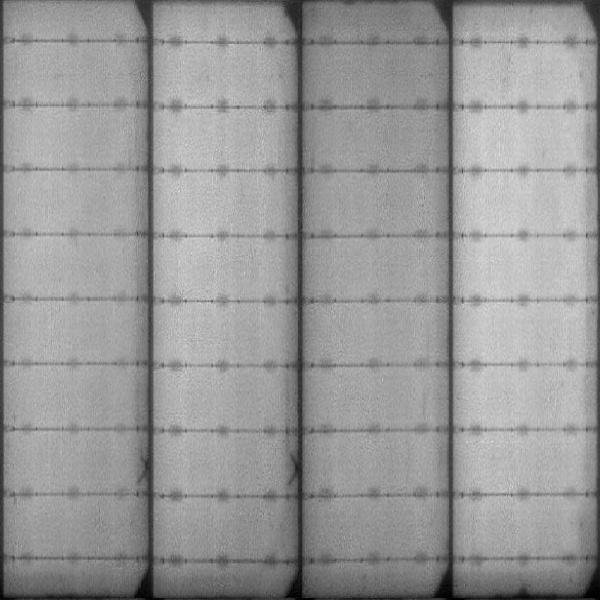broken: (286, 454, 300, 489), (138, 448, 150, 484)
